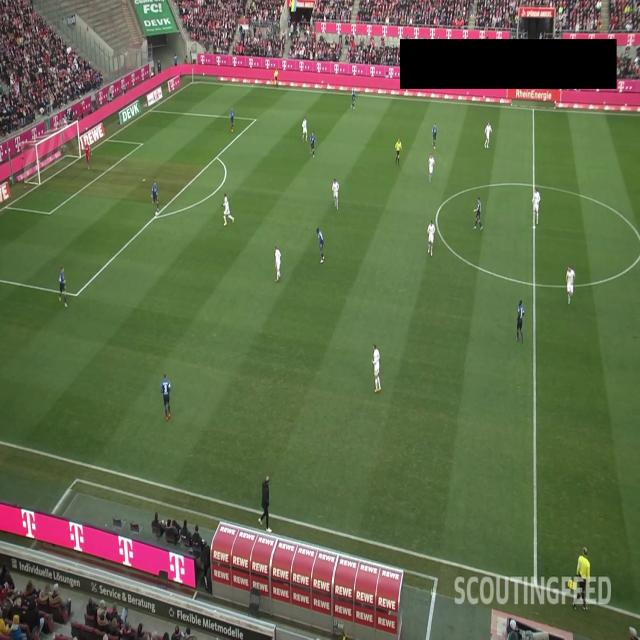ball: (154, 211, 158, 218)
goalkeeper: (84, 138, 92, 172)
player: (160, 373, 172, 421), (372, 342, 382, 393), (58, 265, 68, 307), (516, 299, 525, 344), (222, 193, 234, 226), (473, 195, 483, 230), (566, 266, 575, 304), (150, 181, 160, 213), (532, 188, 540, 226), (274, 244, 282, 282), (427, 219, 435, 256), (316, 227, 324, 263), (484, 122, 492, 150), (332, 178, 339, 210), (428, 153, 435, 183), (301, 117, 308, 143), (431, 122, 437, 151), (229, 106, 235, 134), (310, 131, 316, 158), (351, 87, 356, 109)
referee: (568, 546, 591, 613), (395, 137, 402, 166), (272, 68, 278, 88)
